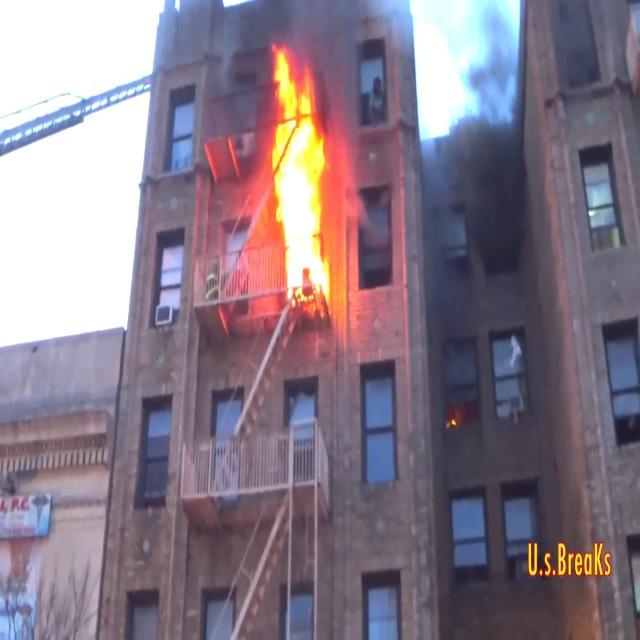Fire: (272, 51, 330, 306)
